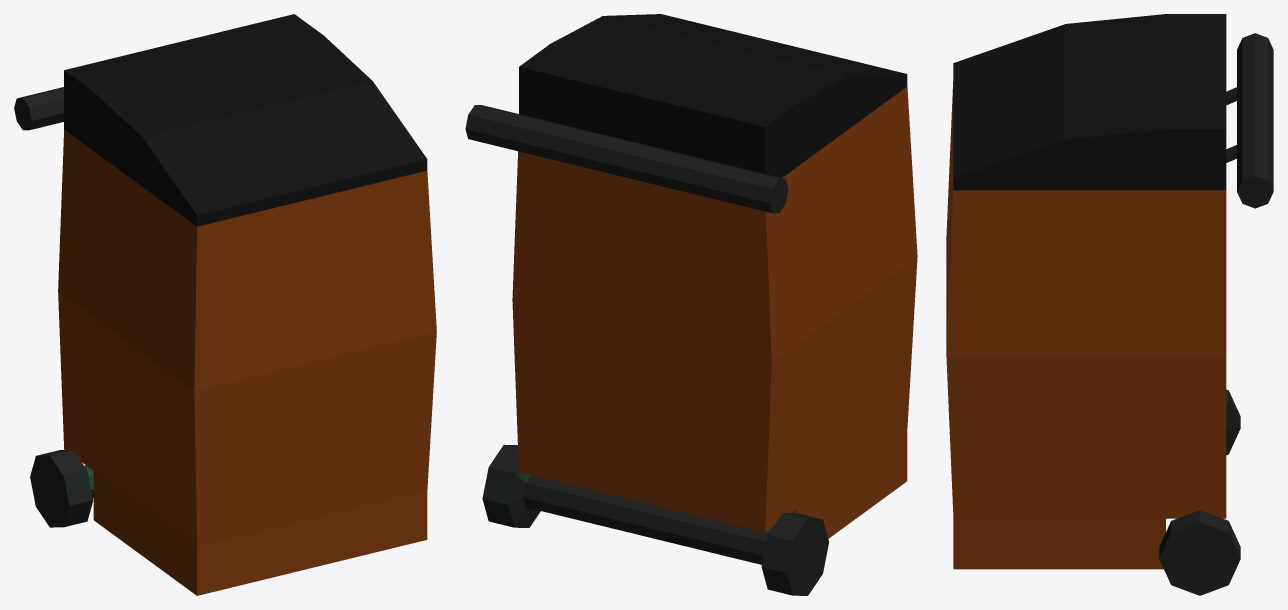
The model's file is SM_trashcan_orange.FBX.
3 renders of one model, left to right at view 1: azimuth 30°, elevation 25°; view 2: azimuth 150°, elevation 25°; view 3: azimuth 270°, elevation 25°, orthographic. The views are drawn at different scales.
Visible parts, largest first — view 1: trashcan; view 2: trashcan; view 3: trashcan.
Boxes of the visible parts, <box> form: trashcan: <box>14,14,436,595</box>; trashcan: <box>465,14,917,595</box>; trashcan: <box>946,14,1273,595</box>.
Bounding box in the file's own units: 55.6 × 82.4 × 53.91.
